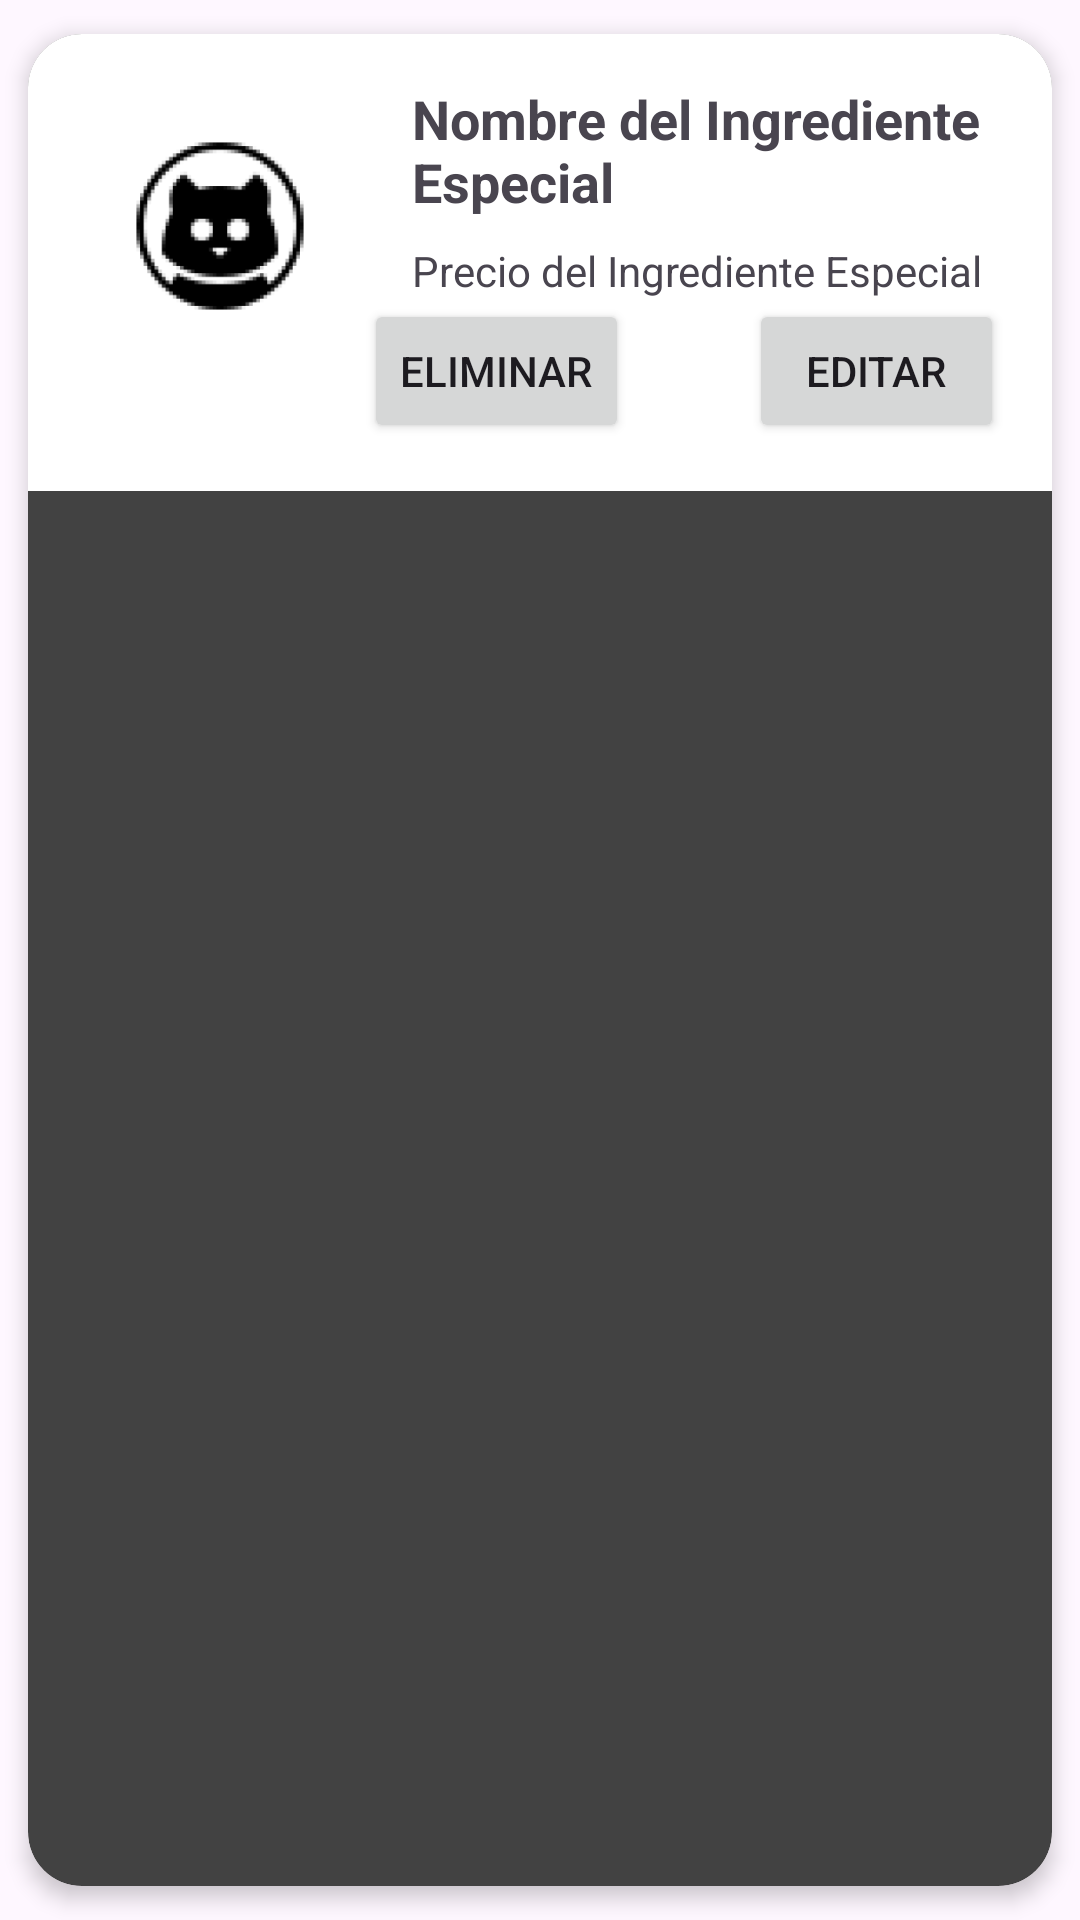

Screen size 1080 x 1920. Icon name, then its center in pixels as point (x, y):
perfil cat: point (220, 226)
